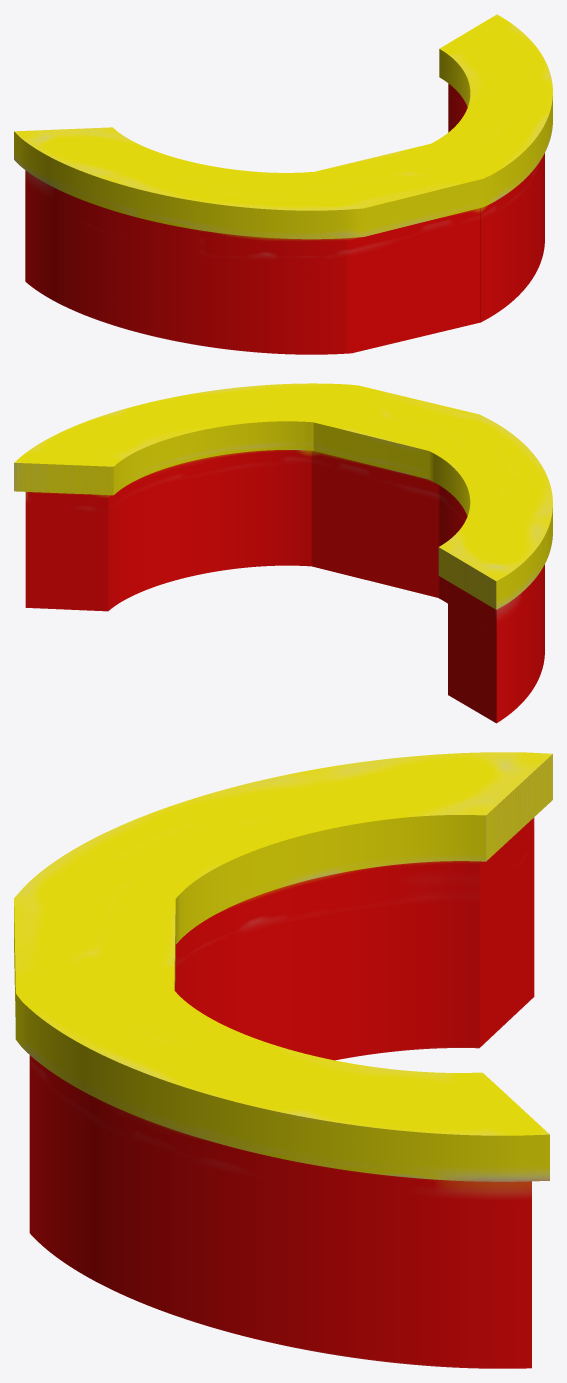
The model's file is Counter.fbx.
3 views of the same model, one above another, from view 1: azimuth 30°, elevation 25°; view 2: azimuth 150°, elevation 25°; view 3: azimuth 270°, elevation 25° (orthographic). The views are drawn at different scales.
Parts seen in each view (by area): view 1: pCube108; view 2: pCube108; view 3: pCube108.
Part boxes in pixels (left/top/right/bottom): pCube108: left=14, top=14, right=552, bottom=354; pCube108: left=14, top=383, right=552, bottom=723; pCube108: left=14, top=752, right=552, bottom=1368.
Size of the model in its own units: 33.75 by 9.79 by 20.05.
1 material, 1 textured.
